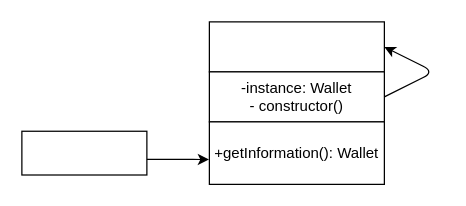
Some shapes in this 466 by 206 pixel diagram are drawn without their labels. Here are the shapes that lost their labels. From the top down, the centre of each, then its label:
point 296,46: Wallet
point 84,152: Client
